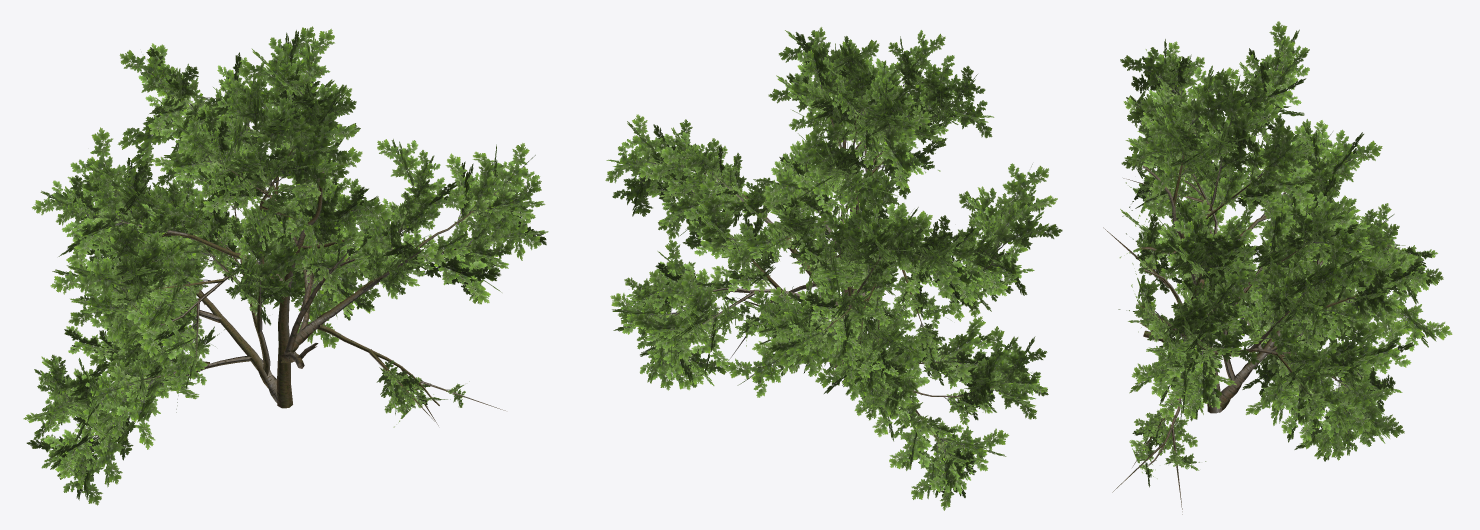
Rendered from Tree3.fbx.
The picture shows the model from 3 angles, left to right: view 1: azimuth 30°, elevation 25°; view 2: azimuth 150°, elevation 25°; view 3: azimuth 270°, elevation 25°; orthographic projection. The views are drawn at different scales.
Visible parts, largest first — view 1: Tree3; view 2: Tree3; view 3: Tree3.
Boxes of the visible parts, x1,y1,x2,y2 form: Tree3: (23,26,548,505); Tree3: (605,27,1062,510); Tree3: (1103,21,1452,514).
Size of the model in its own units: 640 by 570 by 422.
2 materials, 2 textured.
